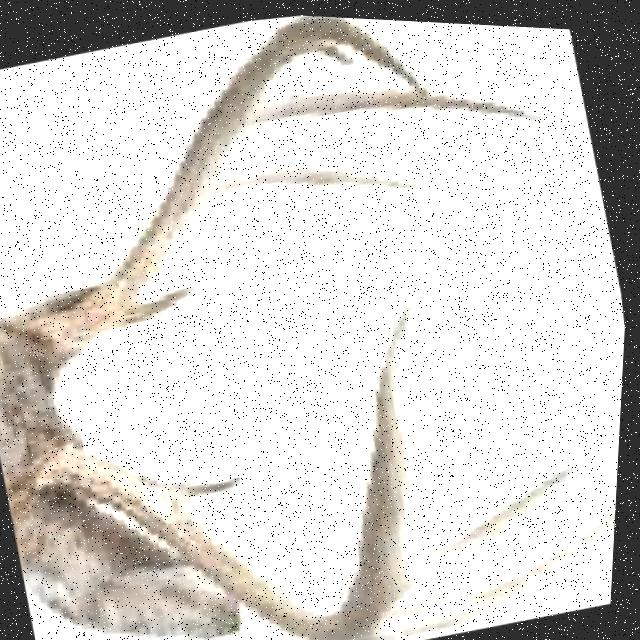L-F: (0, 12, 432, 384)
L-G1: (128, 280, 207, 324)
L-G2: (215, 160, 430, 196)
R-F: (40, 296, 425, 640)
